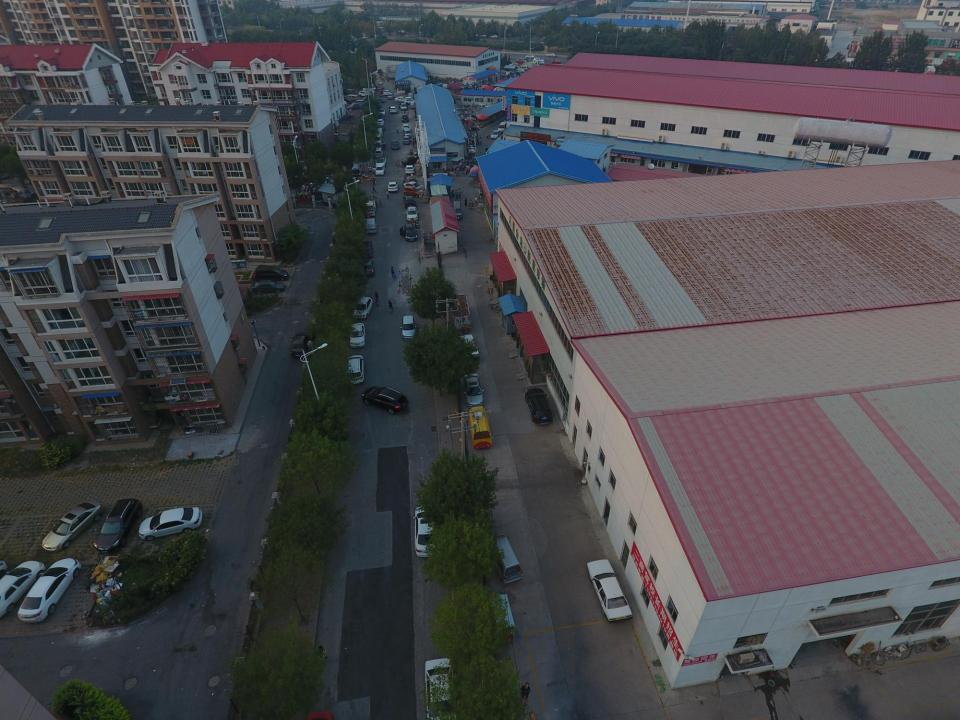bus: (468, 404, 492, 450)
car: (16, 558, 82, 622), (586, 559, 634, 624), (42, 500, 101, 552), (0, 560, 46, 618), (94, 498, 143, 552), (138, 506, 202, 542), (425, 658, 457, 719), (412, 505, 447, 558), (361, 386, 409, 415), (525, 387, 554, 425), (463, 373, 485, 408), (458, 334, 480, 362), (346, 354, 364, 384), (291, 332, 311, 358), (251, 280, 286, 294), (352, 296, 373, 318), (349, 323, 366, 348), (362, 260, 374, 277), (362, 241, 373, 258), (372, 164, 385, 175), (402, 157, 418, 165), (326, 132, 340, 140), (347, 103, 363, 110), (387, 182, 398, 192), (351, 99, 366, 106), (358, 90, 373, 97), (375, 157, 386, 166), (404, 97, 416, 105), (374, 142, 386, 150), (395, 96, 408, 103), (491, 130, 501, 139), (376, 118, 385, 127), (405, 165, 414, 174), (391, 140, 399, 150), (334, 100, 347, 106), (372, 96, 385, 102), (376, 112, 384, 121), (403, 123, 410, 133), (383, 90, 394, 96), (516, 58, 527, 64), (533, 57, 544, 63), (531, 60, 544, 65), (401, 114, 409, 122), (378, 108, 386, 116), (388, 106, 397, 113), (546, 52, 557, 57), (514, 67, 524, 72), (551, 59, 561, 64), (525, 54, 535, 59), (403, 136, 409, 144), (387, 93, 394, 99), (376, 88, 382, 94), (490, 34, 498, 38), (480, 34, 487, 38)
truck: (449, 294, 472, 333), (365, 198, 376, 216), (522, 63, 534, 69)
van: (490, 534, 522, 584), (255, 265, 289, 282), (452, 201, 463, 220), (366, 218, 377, 233), (344, 94, 359, 102), (352, 163, 362, 175), (403, 127, 412, 138), (497, 122, 508, 131), (362, 87, 375, 94), (375, 147, 383, 158), (374, 134, 382, 144), (376, 127, 383, 138), (518, 65, 528, 71), (346, 88, 354, 95), (378, 82, 384, 89)
